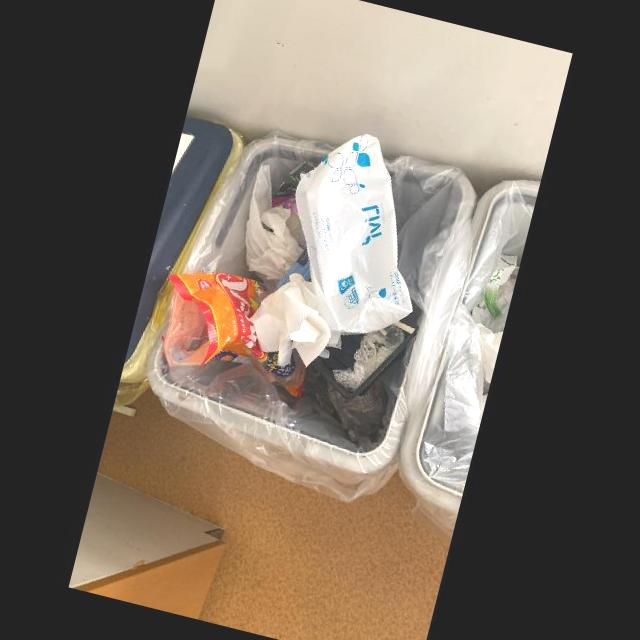bao_bi_thuc_pham: (293, 134, 412, 336), (160, 272, 306, 398)
giay: (247, 273, 340, 367), (245, 165, 303, 292)
